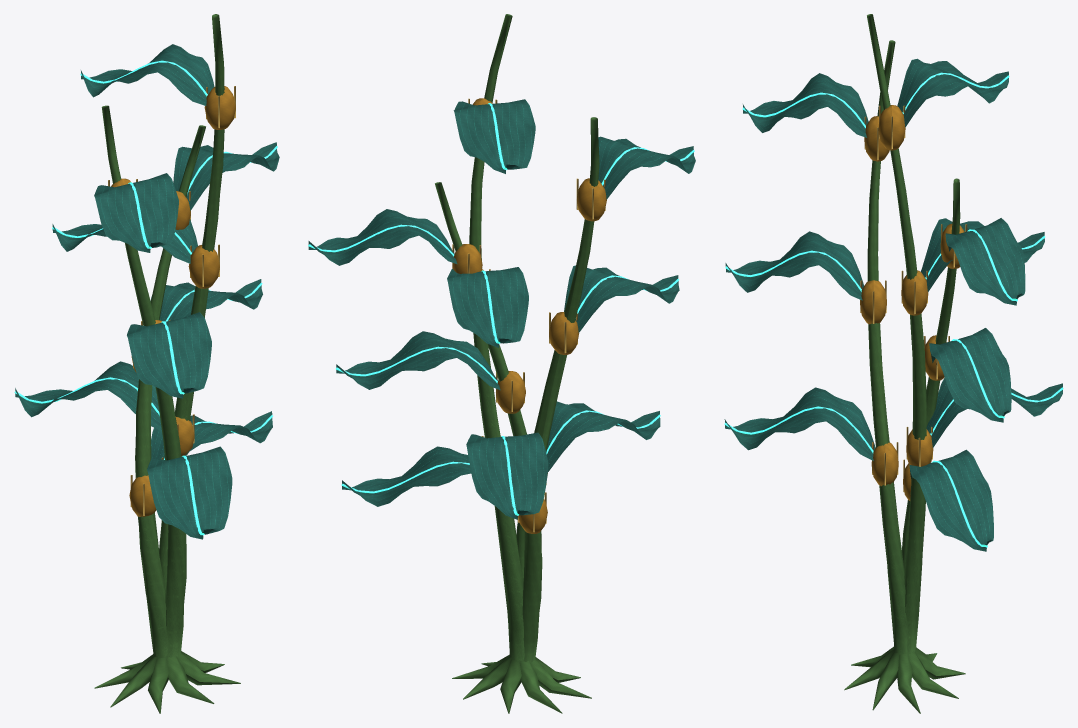
File: kelp.glb
3 views of the same model, side by side, from view 1: azimuth 30°, elevation 25°; view 2: azimuth 150°, elevation 25°; view 3: azimuth 270°, elevation 25° (orthographic). The views are drawn at different scales.
Parts seen in each view (by area): view 1: kelp; view 2: kelp; view 3: kelp.
Part boxes in pixels (x1=…): kelp: x1=14, y1=14, x2=279, y2=713; kelp: x1=308, y1=14, x2=695, y2=713; kelp: x1=724, y1=14, x2=1063, y2=713.
Size of the model in its own units: 2.24 by 5.11 by 2.3.
Materials: 1 (1 with a texture image).
